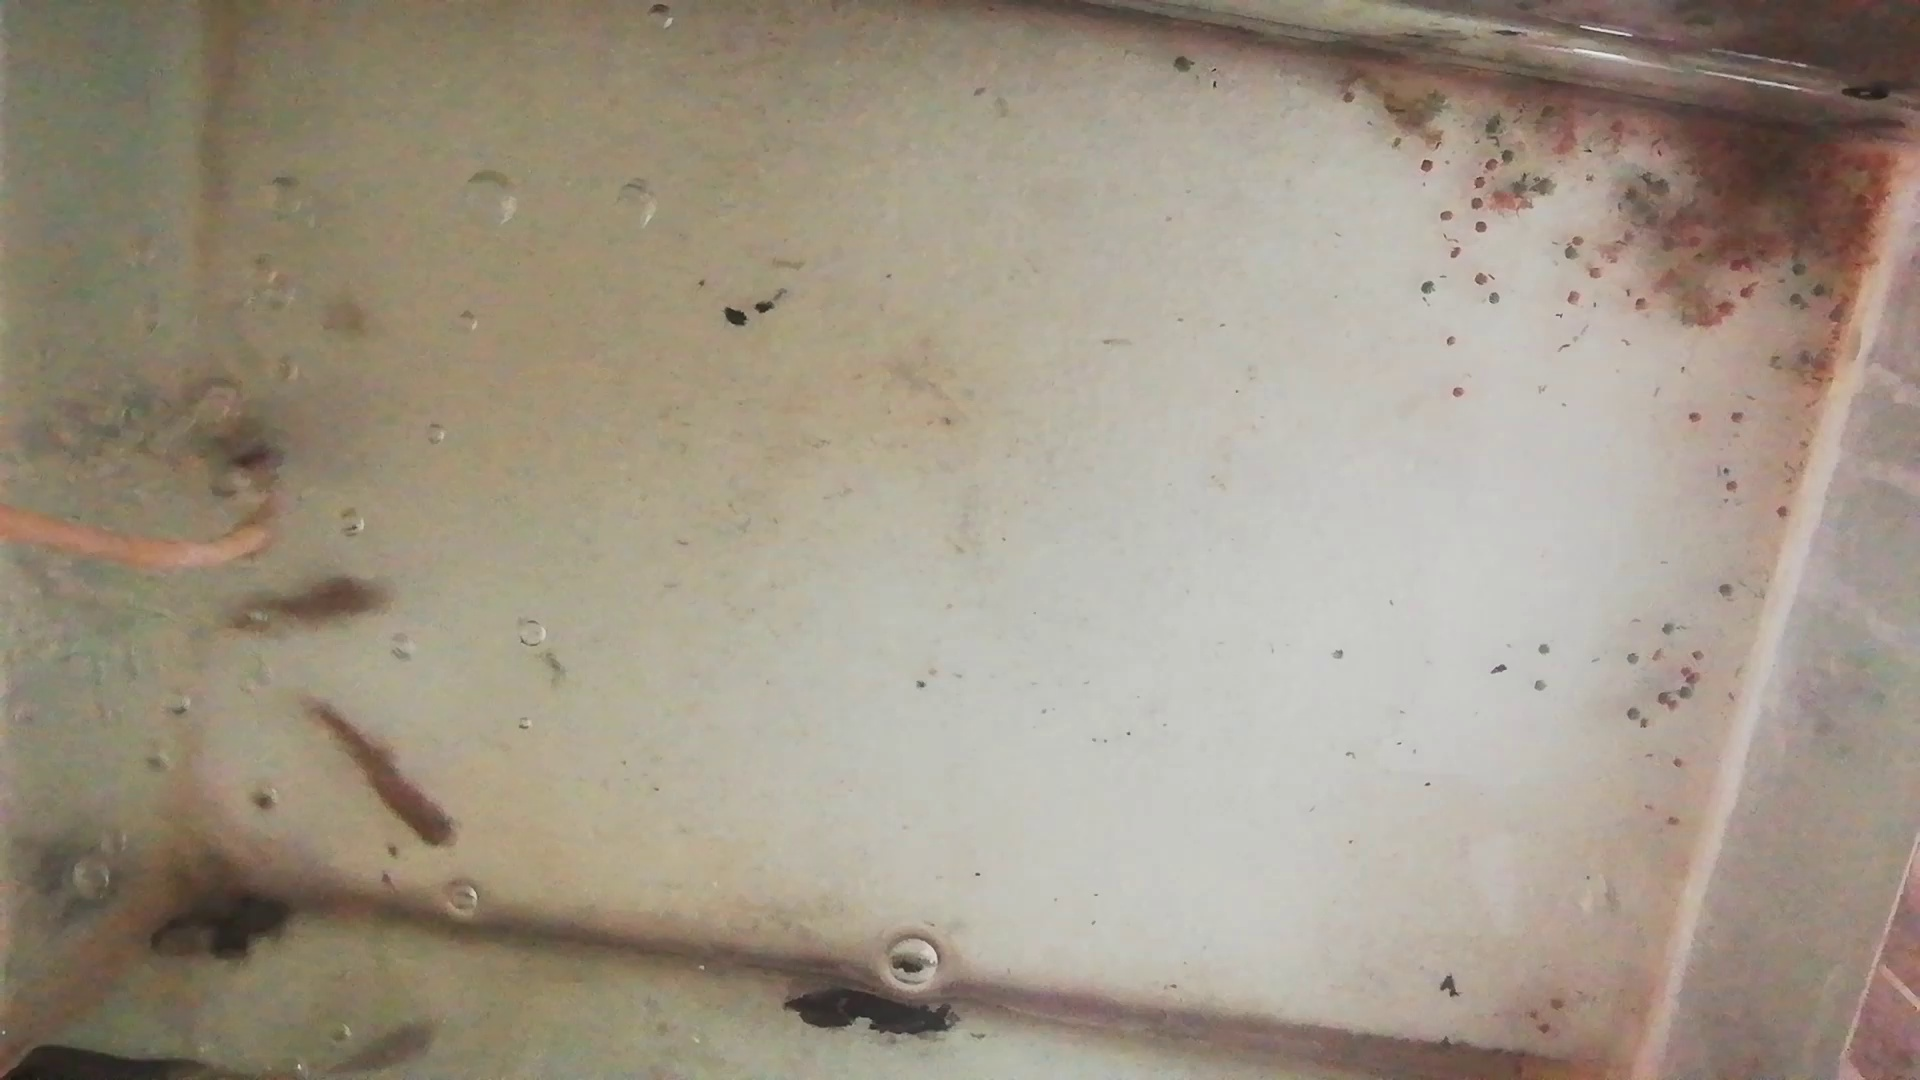fish: (297, 688, 462, 855), (224, 576, 400, 633)
